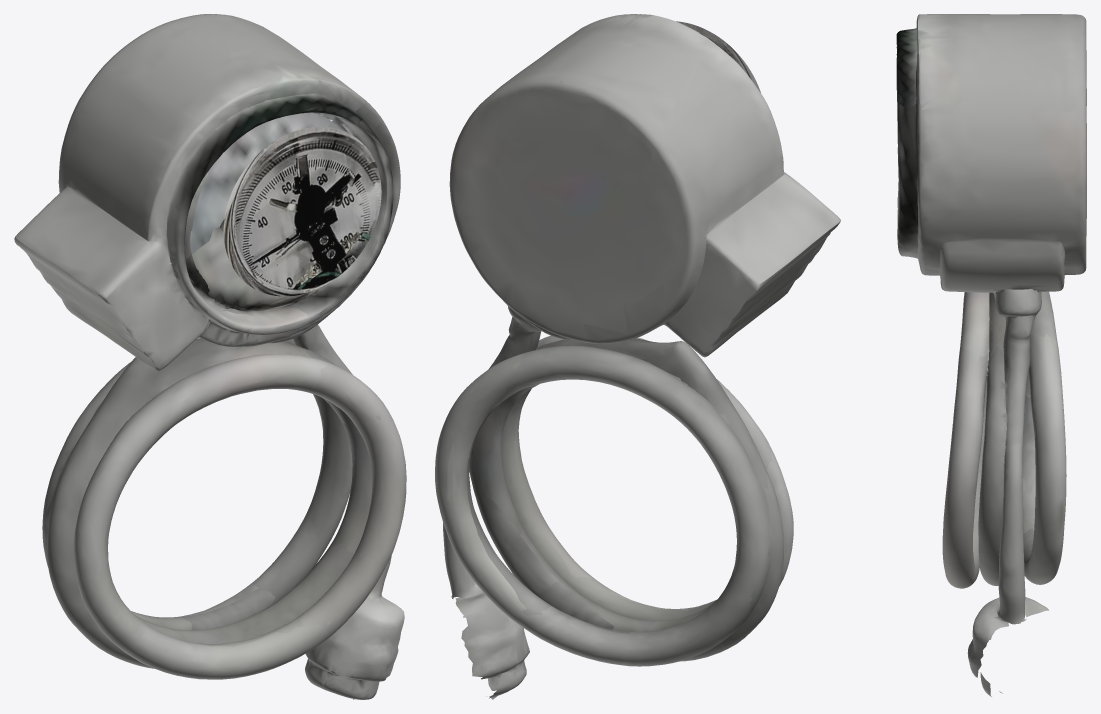
File: gas-with-contact-thermometers.glb
The picture shows the model from 3 angles, left to right: view 1: azimuth 30°, elevation 25°; view 2: azimuth 150°, elevation 25°; view 3: azimuth 270°, elevation 25°; orthographic projection. The views are drawn at different scales.
Parts seen in each view (by area): view 1: gauge, dial; view 2: gauge, dial; view 3: gauge.
Part boxes in pixels (x1=…): gauge: x1=14, y1=14, x2=406, y2=699; dial: x1=223, y1=126, x2=381, y2=296; gauge: x1=435, y1=14, x2=840, y2=699; dial: x1=676, y1=21, x2=760, y2=92; gauge: x1=896, y1=14, x2=1086, y2=696.
Bounding box in the file's own units: 0.0659 × 0.1226 × 0.0395.
Materials: 2 (2 with a texture image).
